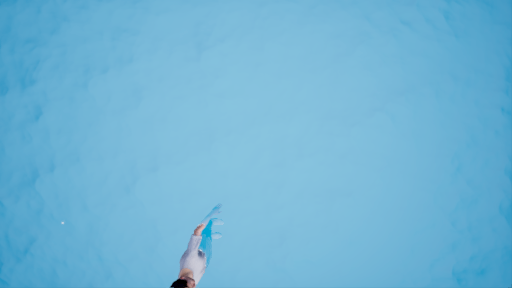person: (179, 197, 243, 286)
